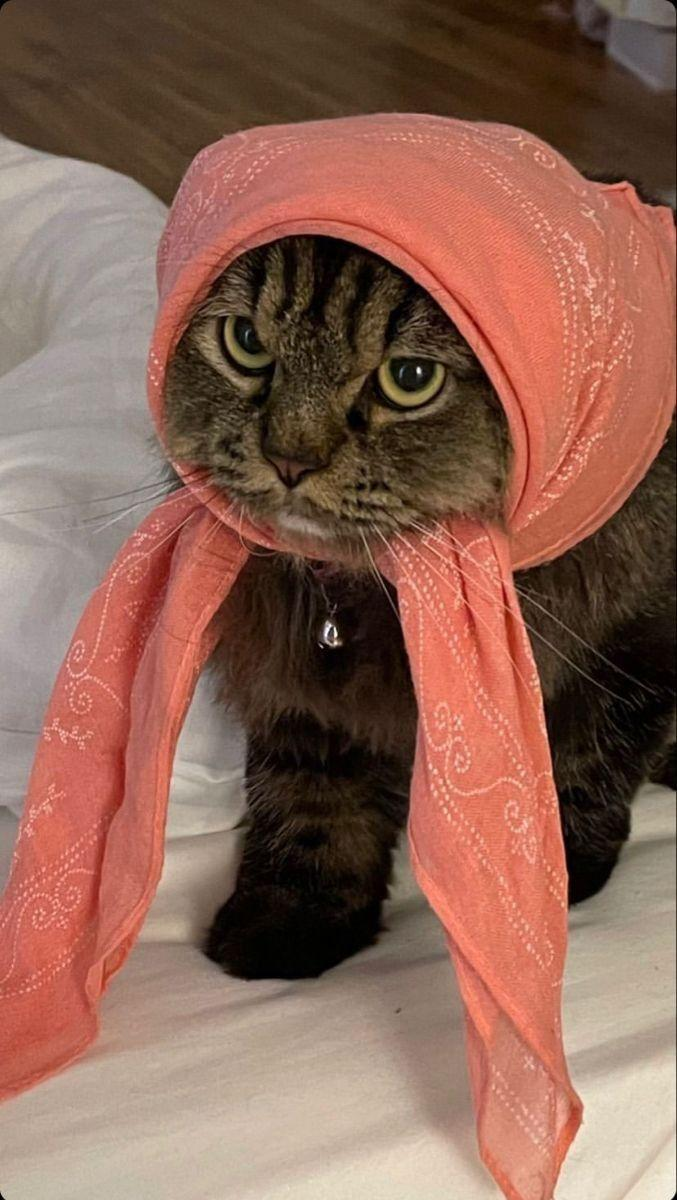kedo: (160, 226, 677, 978)
